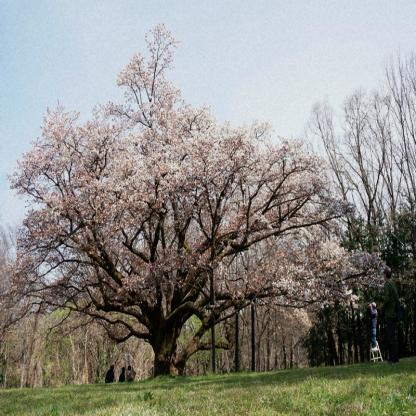Someiyoshino: (2, 27, 383, 311)
